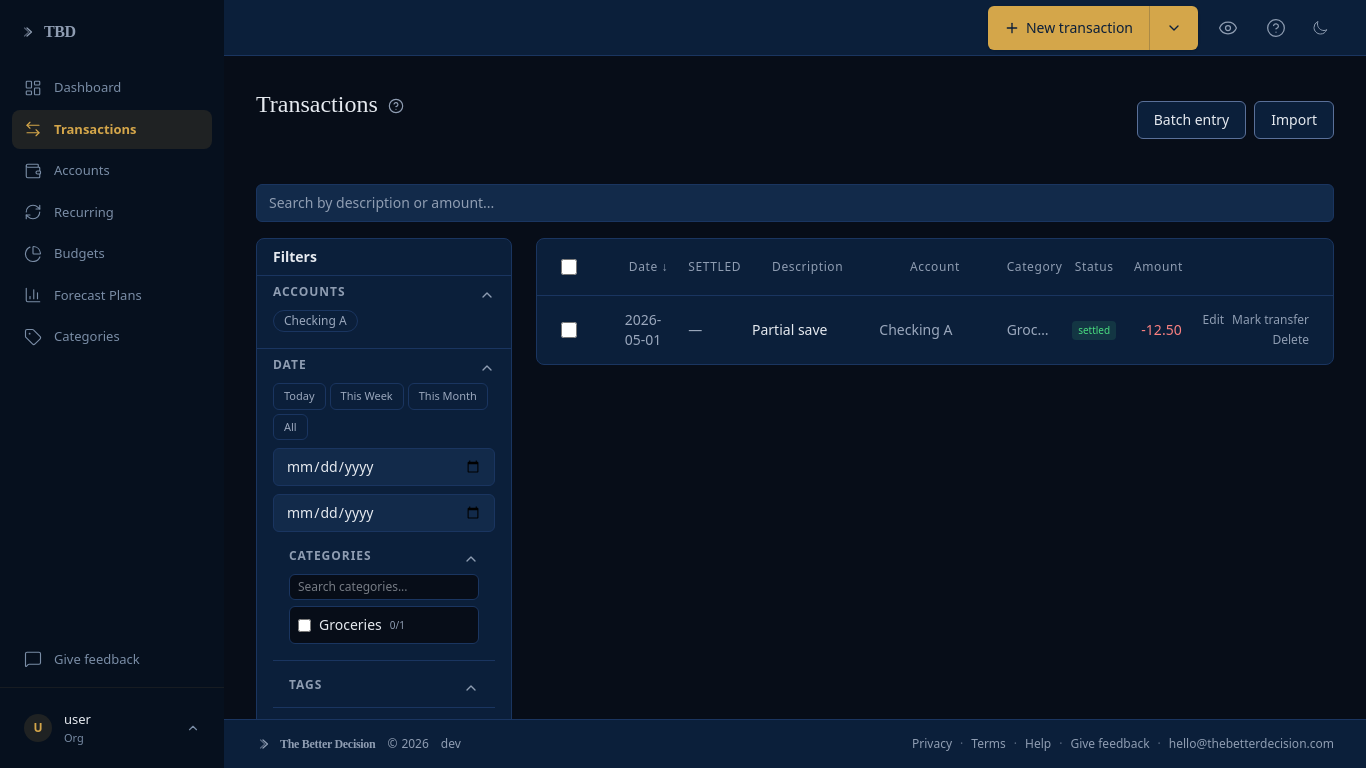
Test: TransactionsPage — promote to recurring (L3.12) › partial success: PUT succeeds + POST promote fails surfaces partial-success message and exits edit
The width and height of the screenshot is (1366, 768).
Click the button with aria-label "Edit:".
click(1213, 320)  # box [1203,312,1224,328]
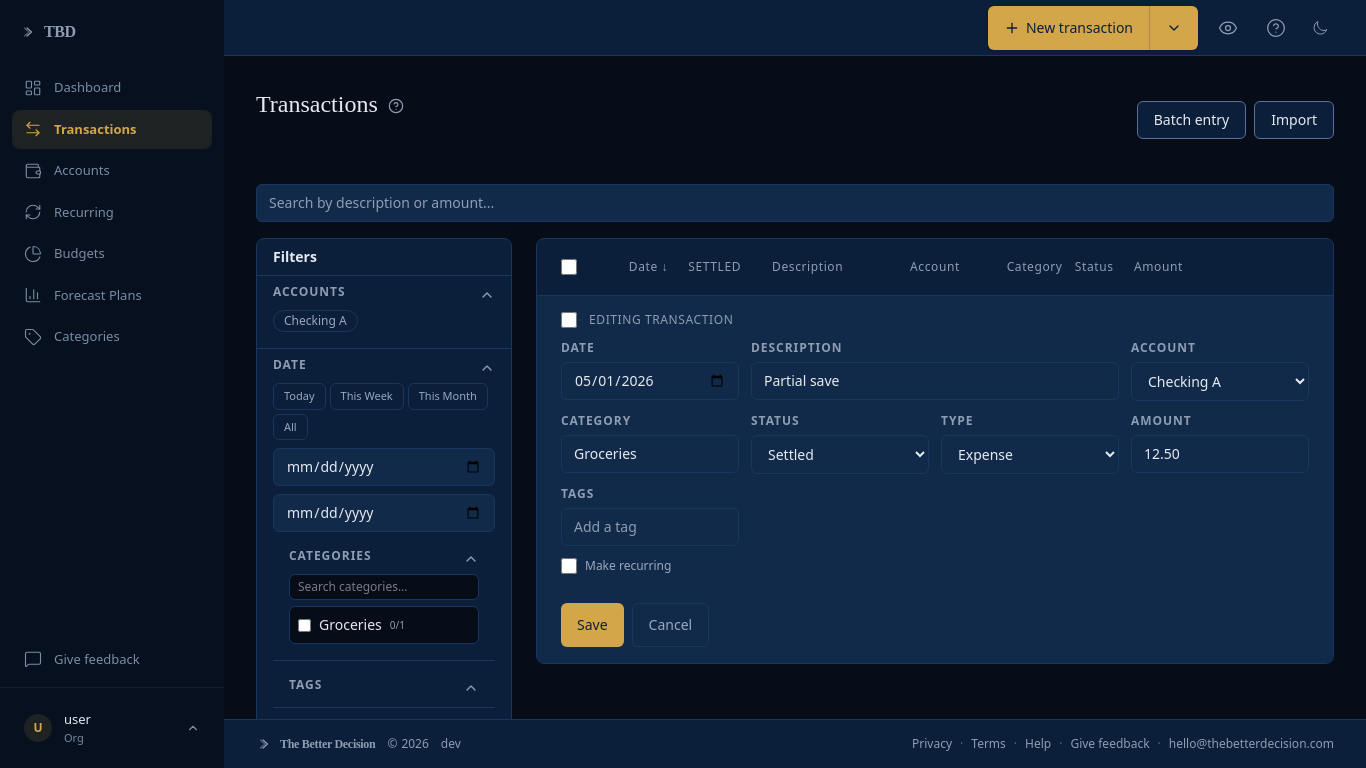
Click the checkbox labelled "Make recurring".
click(569, 566)  # box [561,558,577,574]
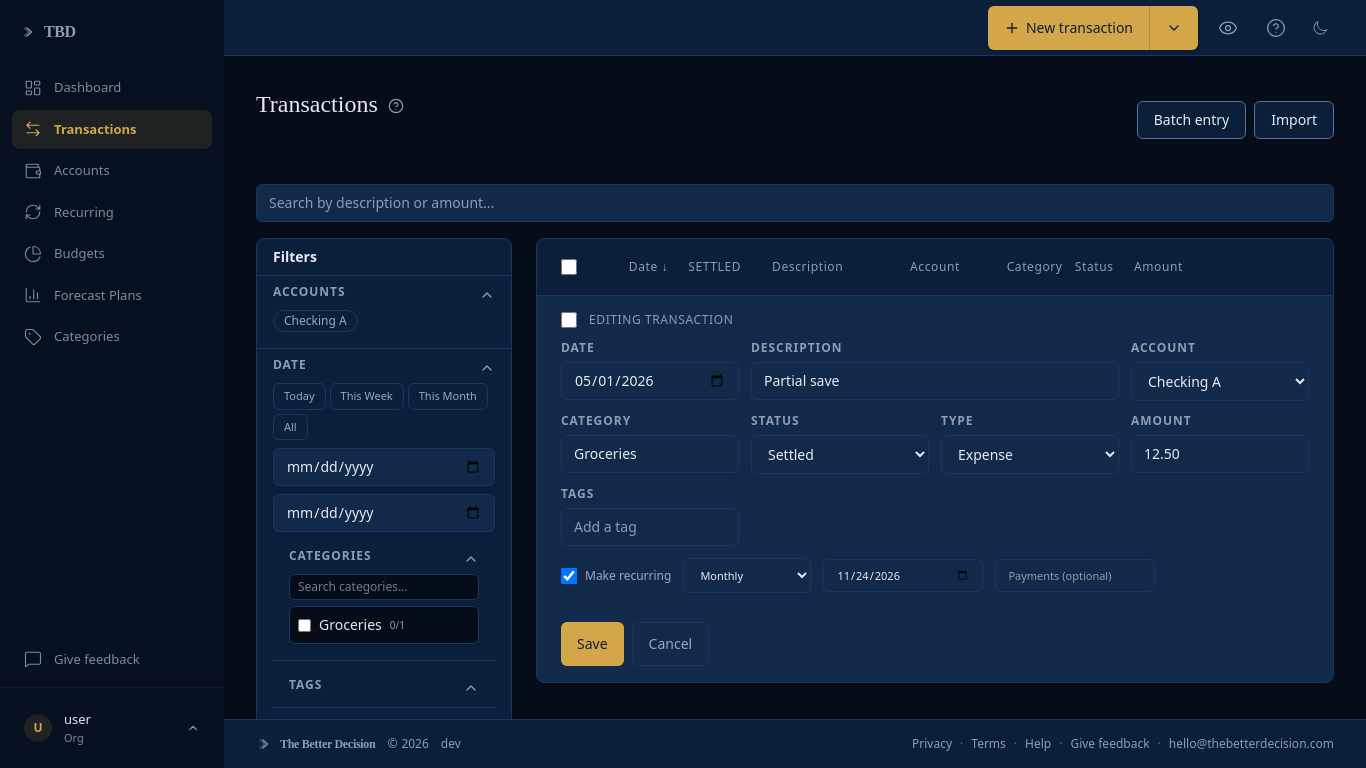
Click the button "Save".
click(592, 644)  # box [561,622,624,666]
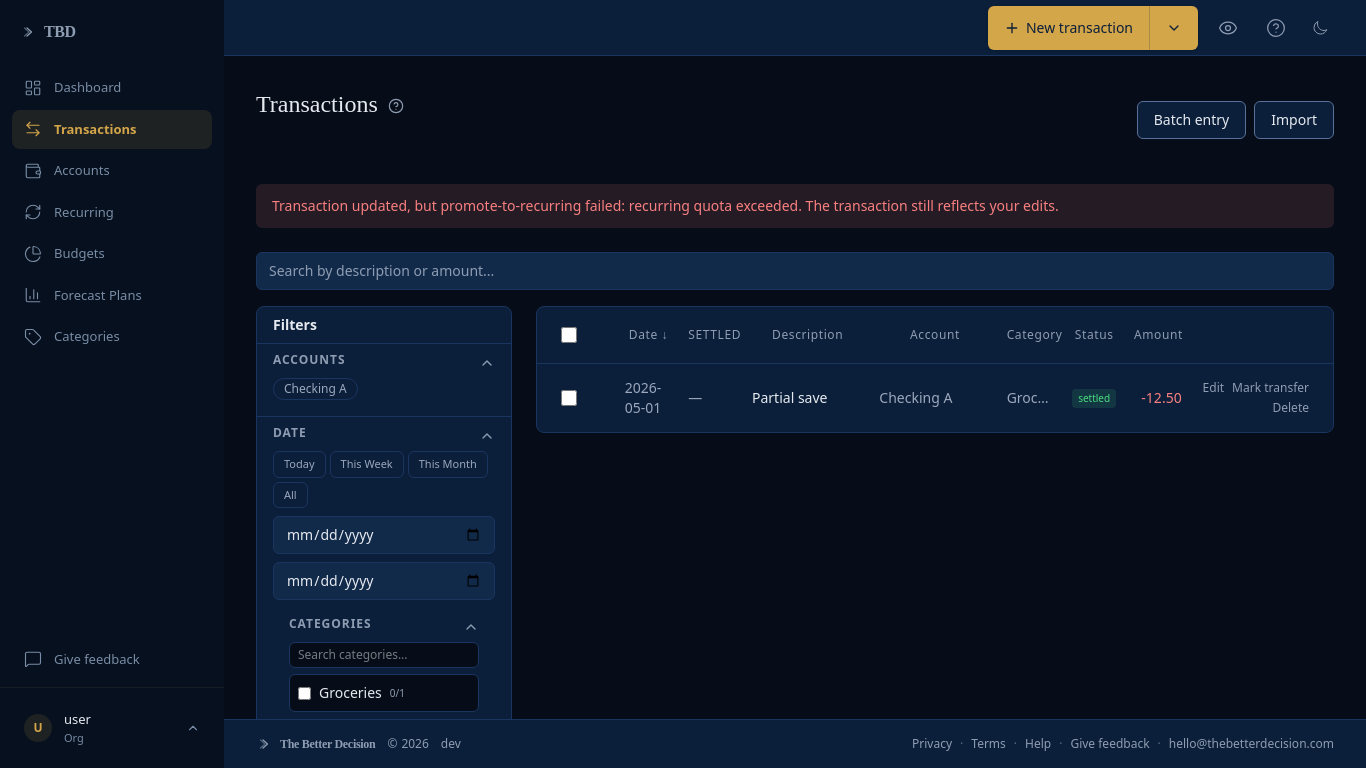
Expected: the text "still reflects your edits" is shown, [272,196,1059,215]
Expected: no buttons "Save" are shown
